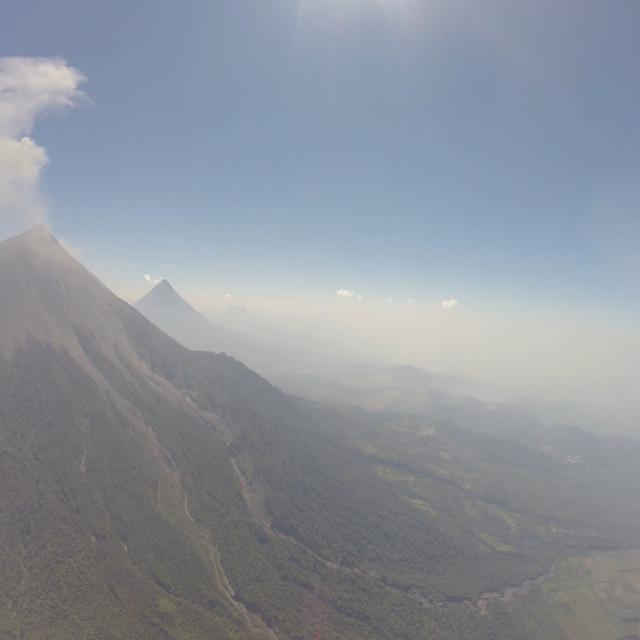Plume: (0, 51, 94, 132), (0, 134, 52, 207)
Summit: (14, 218, 64, 258)
